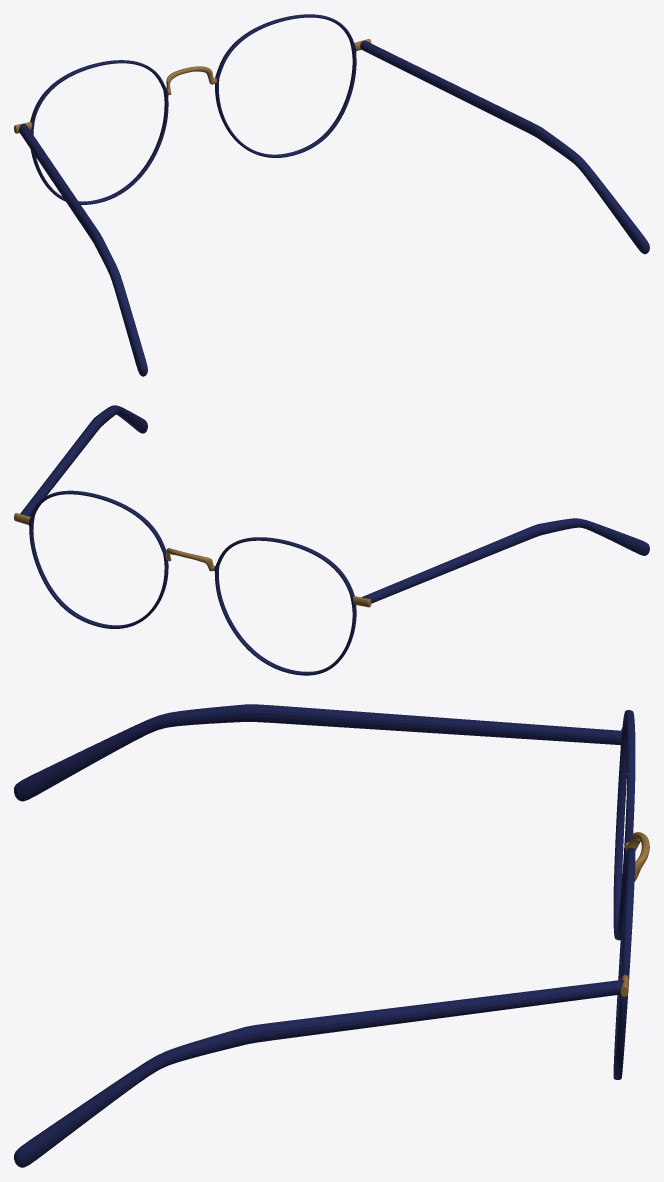
File: alchemist_oval.fbx
3 renders of one model, top to bottom at view 1: azimuth 30°, elevation 25°; view 2: azimuth 150°, elevation 25°; view 3: azimuth 270°, elevation 25°, orthographic. The views are drawn at different scales.
Parts seen in each view (by area): view 1: frame.001; view 2: frame.001; view 3: frame.001.
Part boxes in pixels (x1,y1,x2,y2): frame.001: [14, 14, 649, 376]; frame.001: [14, 405, 649, 675]; frame.001: [14, 704, 649, 1167].
Bounding box in the file's own units: 18.5 × 4.68 × 13.36.
